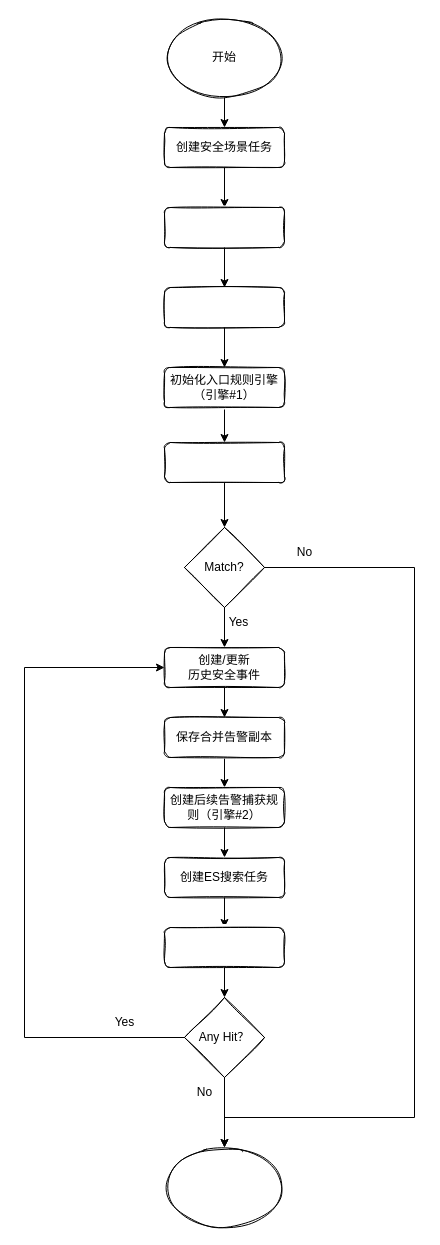
Image size: 440x1245. Some labels were removed from this diagram. Each missing label, with the centre of its shape:
从ES中加载合并告警，发送引擎#1: pixel 224 462
启动安全场景任务: pixel 224 227
执行ES搜索任务: pixel 224 947
提取安全场景模型入口规则: pixel 224 307
结束: pixel 224 1187
